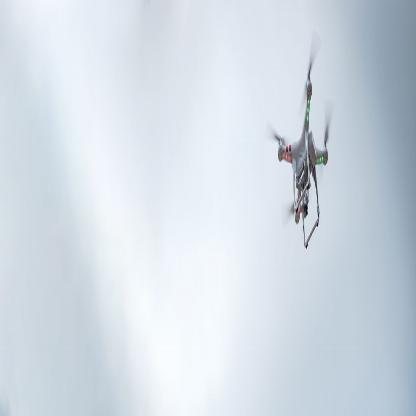drone: (264, 44, 344, 237)
